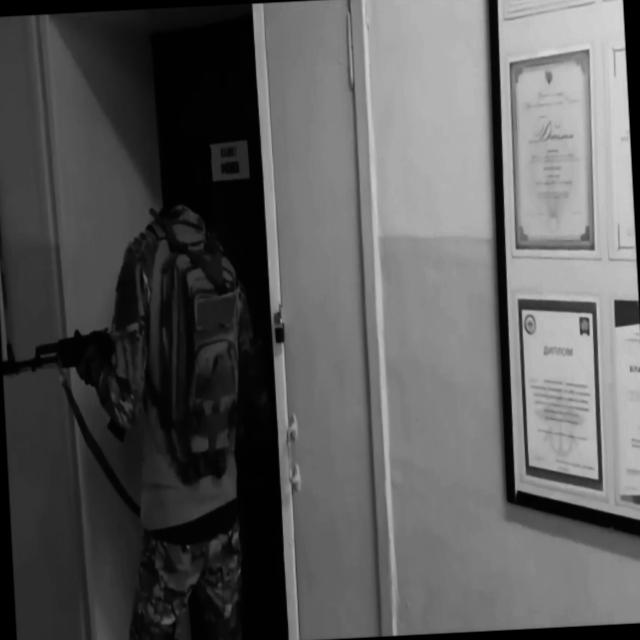gun: (0, 322, 129, 450)
person with a gun: (0, 126, 281, 640)
